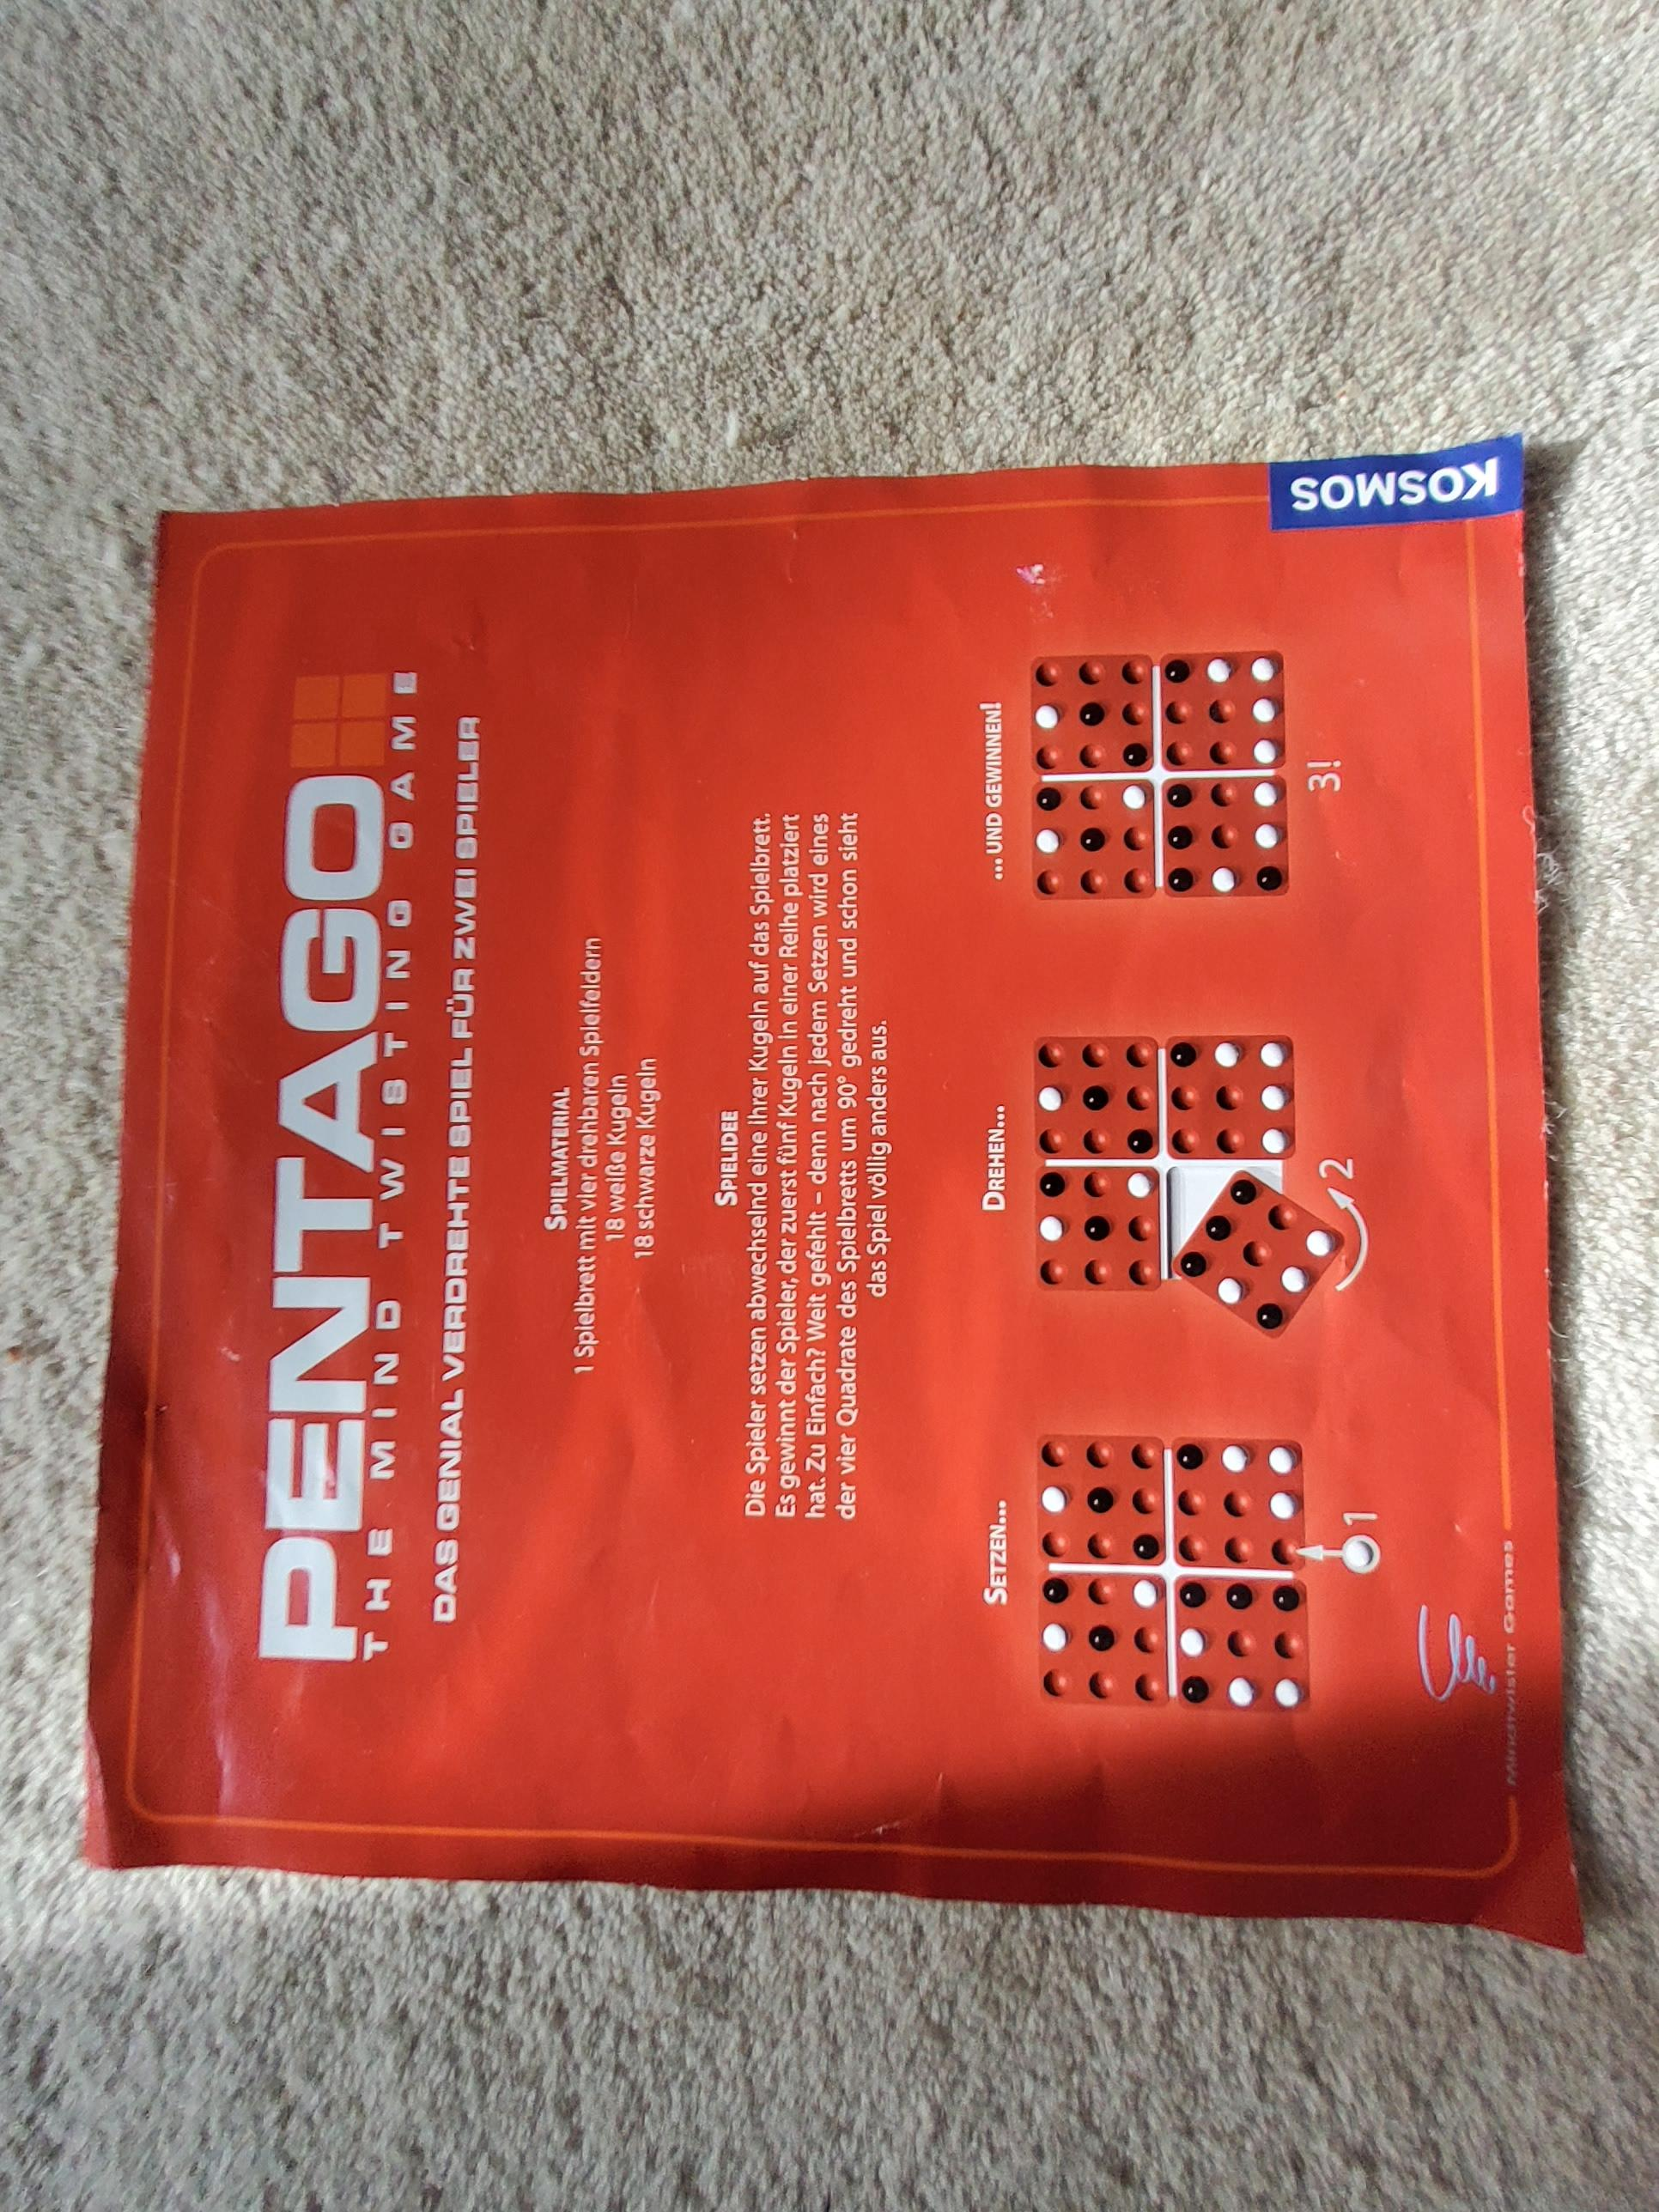pentago: (85, 435, 1589, 1972)
